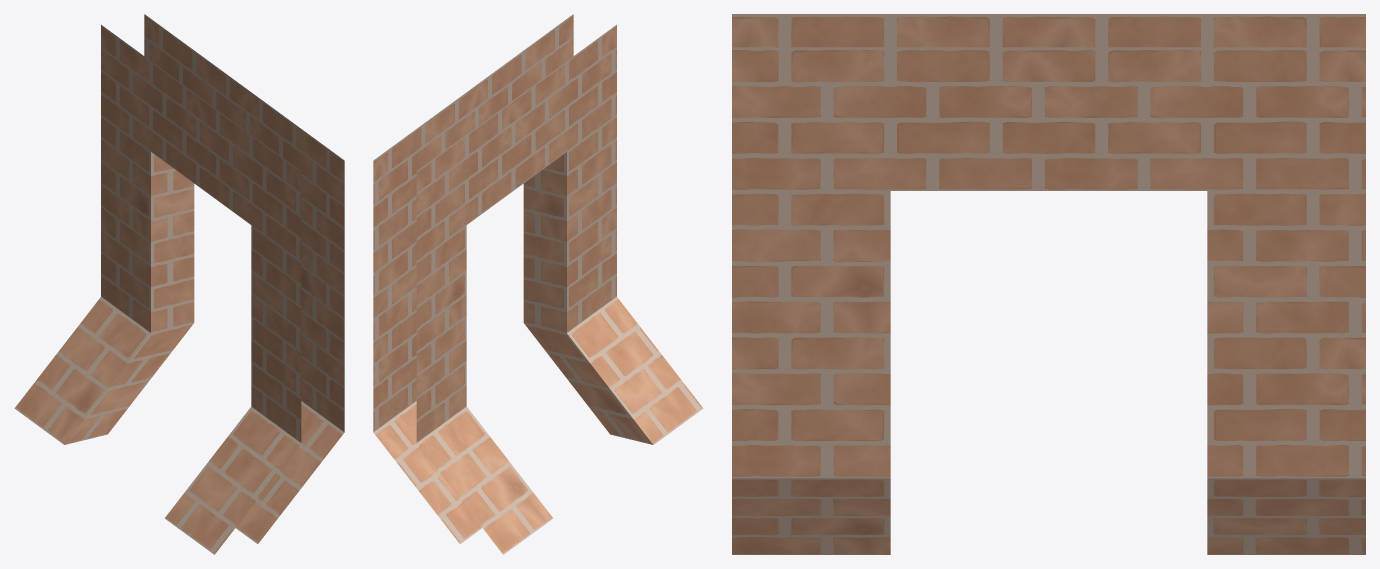
File: Bot_Temp_Door.fbx
3 renders of one model, left to right at view 1: azimuth 30°, elevation 25°; view 2: azimuth 150°, elevation 25°; view 3: azimuth 270°, elevation 25°, orthographic. The views are drawn at different scales.
Parts seen in each view (by area): view 1: Bot_Temp_Door; view 2: Bot_Temp_Door; view 3: Bot_Temp_Door.
Part boxes in pixels (bbox=[...]): Bot_Temp_Door: bbox=[14, 14, 344, 554]; Bot_Temp_Door: bbox=[373, 14, 703, 554]; Bot_Temp_Door: bbox=[732, 14, 1365, 554].
Size of the model in its own units: 37.5 by 100 by 100.
Materials: 1 (1 with a texture image).
